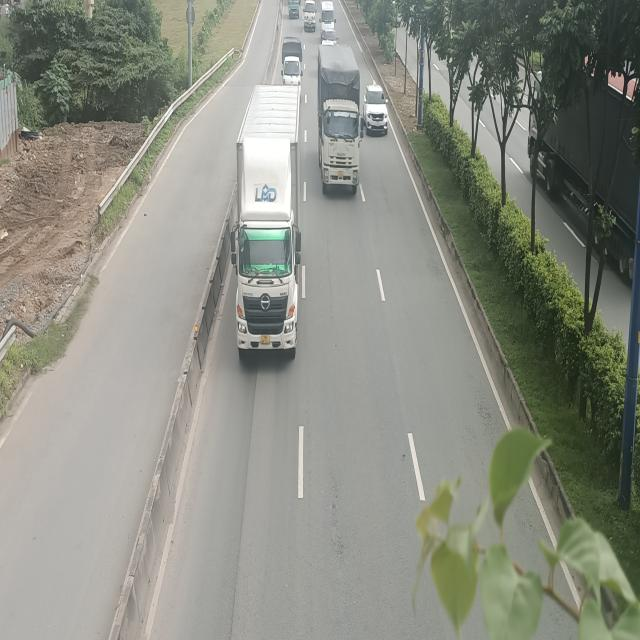car: (363, 83, 389, 136)
container: (316, 45, 361, 196)
truck: (231, 79, 304, 355)
van: (320, 1, 335, 38)
